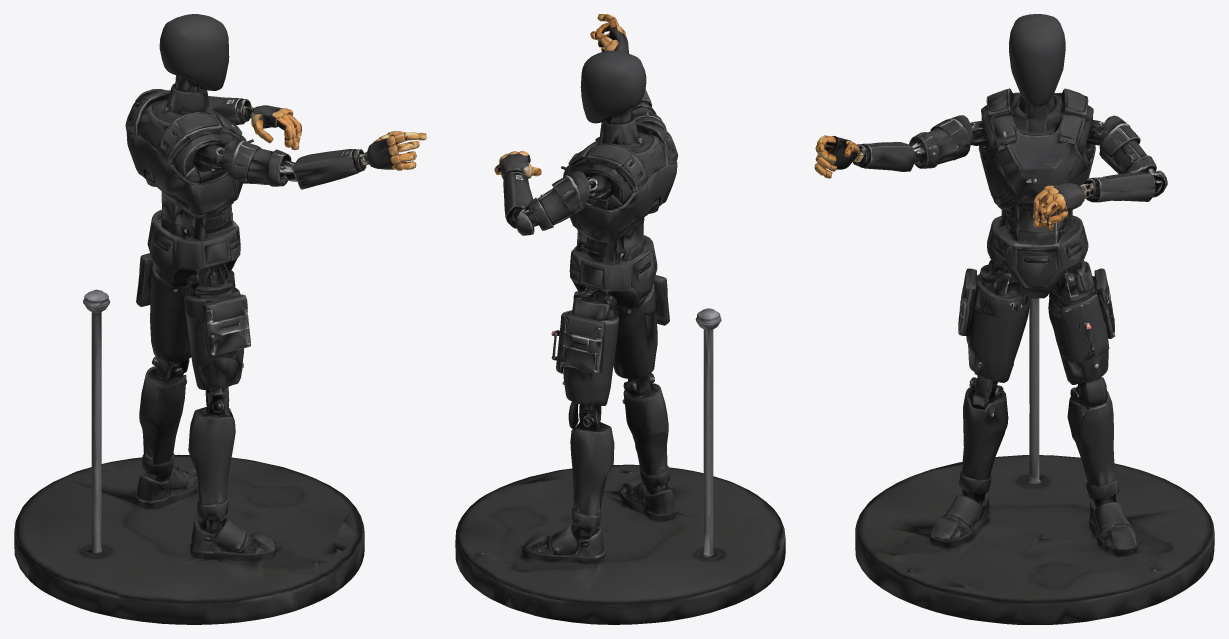
Rendered from tripo_h31_mannequin_expressive_hands_kit.glb.
The picture shows the model from 3 angles, left to right: view 1: azimuth 30°, elevation 25°; view 2: azimuth 150°, elevation 25°; view 3: azimuth 270°, elevation 25°; orthographic projection. The views are drawn at different scales.
Visible parts, largest first — view 1: tripo_node_b288a64e-5fe9-43a0-af56-178d04b5472b; view 2: tripo_node_b288a64e-5fe9-43a0-af56-178d04b5472b; view 3: tripo_node_b288a64e-5fe9-43a0-af56-178d04b5472b.
Boxes of the visible parts, bbox=[...] form: tripo_node_b288a64e-5fe9-43a0-af56-178d04b5472b: bbox=[14, 14, 426, 624]; tripo_node_b288a64e-5fe9-43a0-af56-178d04b5472b: bbox=[455, 14, 785, 624]; tripo_node_b288a64e-5fe9-43a0-af56-178d04b5472b: bbox=[814, 14, 1214, 624].
Size of the model in its own units: 0.5881 by 0.9795 by 0.6654.
Materials: 1 (1 with a texture image).
